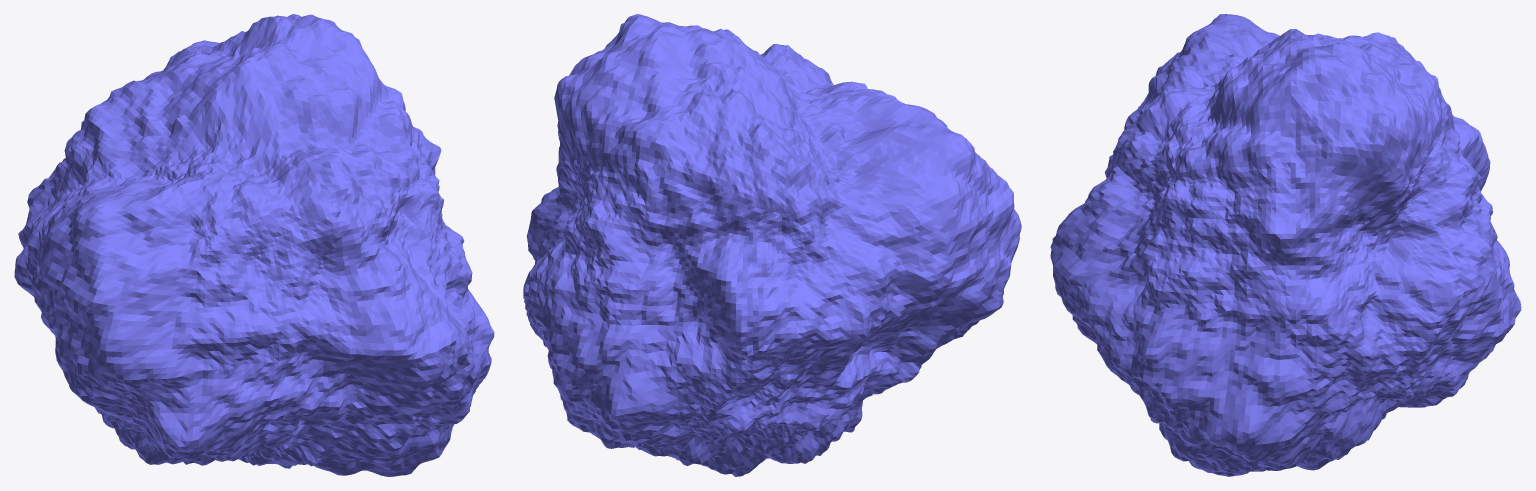
File: asteroid.obj
3 renders of one model, left to right at view 1: azimuth 30°, elevation 25°; view 2: azimuth 150°, elevation 25°; view 3: azimuth 270°, elevation 25°, orthographic. The views are drawn at different scales.
Visible parts, largest first — view 1: Cube; view 2: Cube; view 3: Cube.
Part boxes in pixels (left/top/right/bottom): Cube: left=14, top=14, right=494, bottom=476; Cube: left=523, top=14, right=1021, bottom=476; Cube: left=1050, top=14, right=1521, bottom=476.
Size of the model in its own units: 2.69 by 2.59 by 2.65.
Materials: 1 (1 with a texture image).
